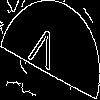V: (25, 25, 59, 80)
